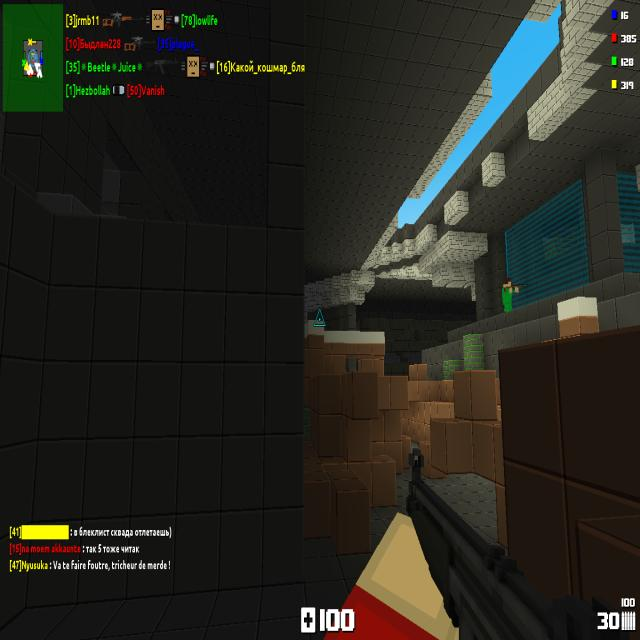enemy: (502, 278, 519, 311)
